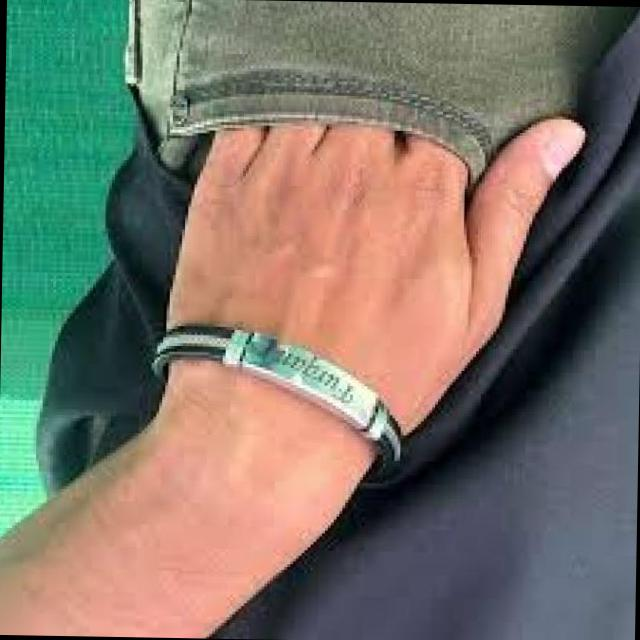Nail: (536, 124, 588, 179)
